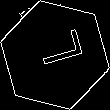L_W: (27, 33, 83, 77)
